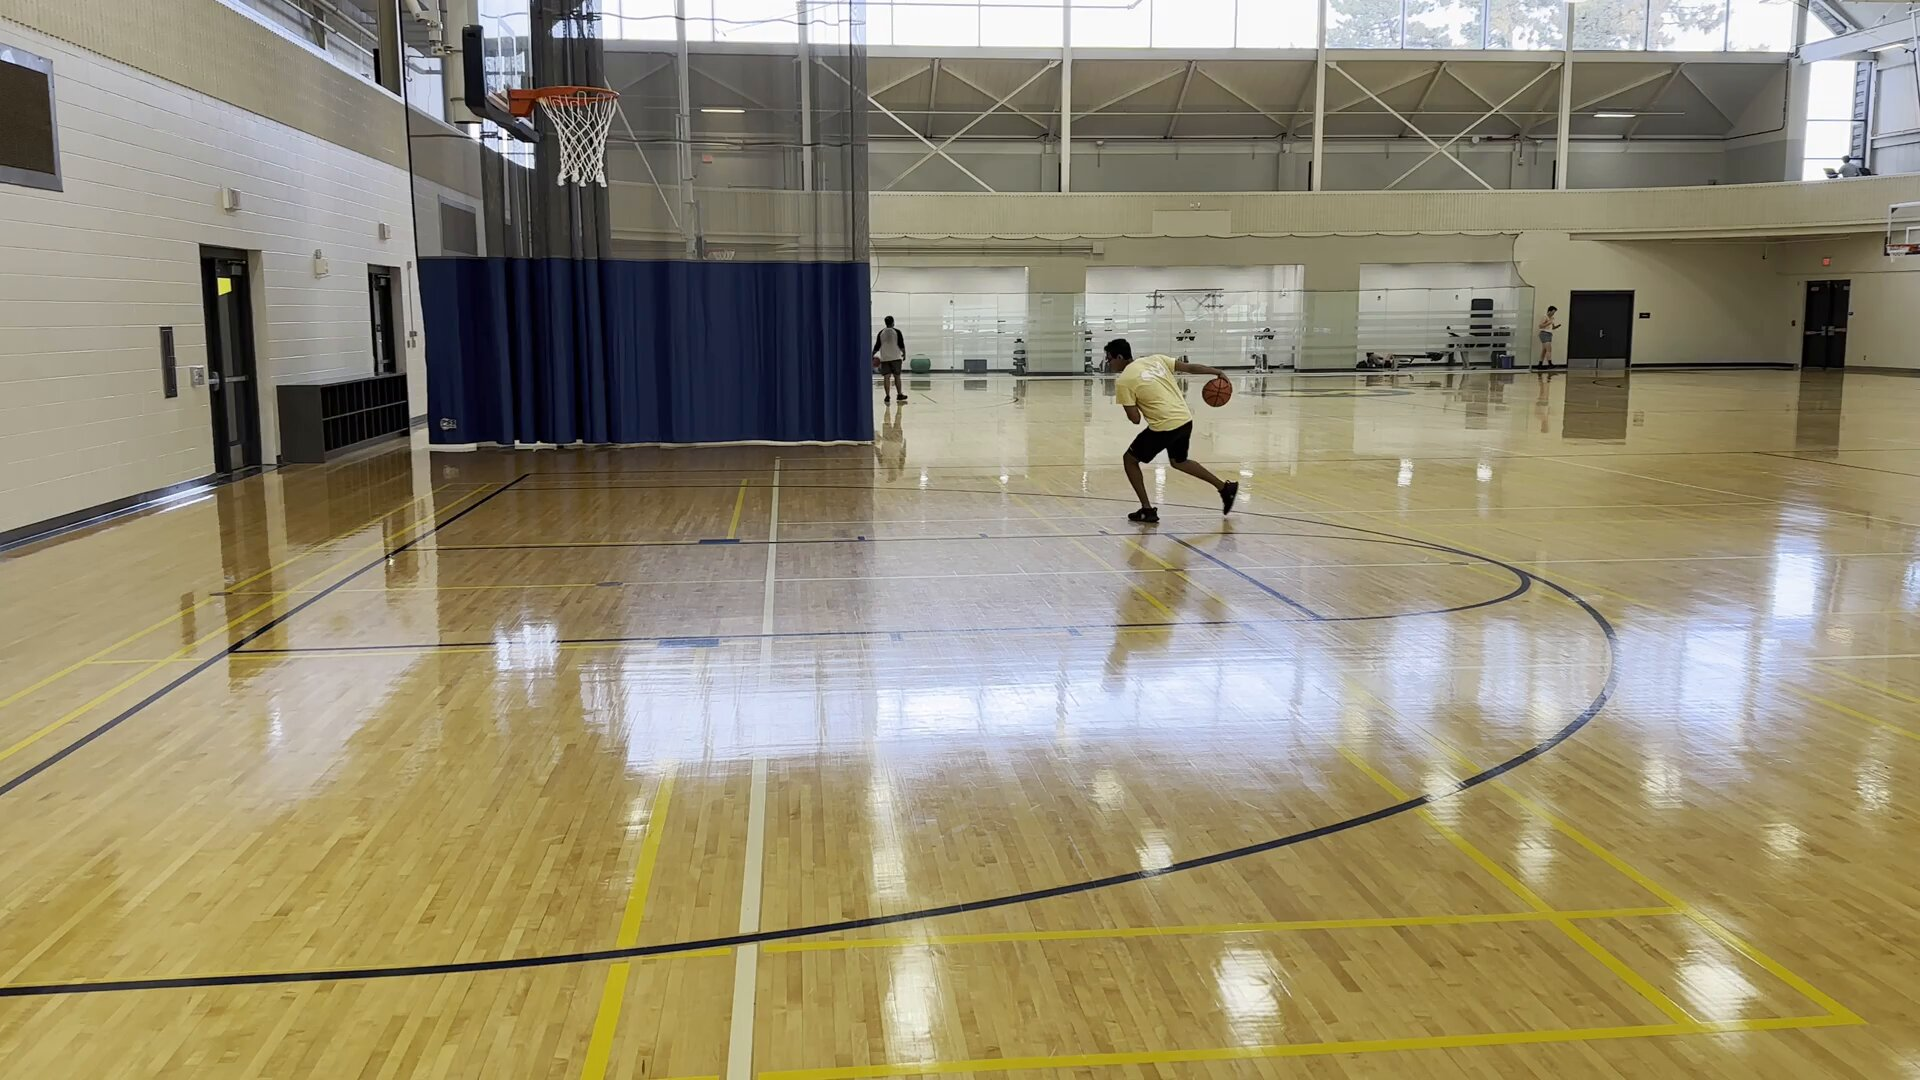ball: (1199, 374, 1236, 410)
net: (552, 150, 616, 188)
player: (1098, 338, 1243, 527), (870, 315, 920, 406), (1534, 304, 1566, 370)
rim: (525, 82, 629, 113)
